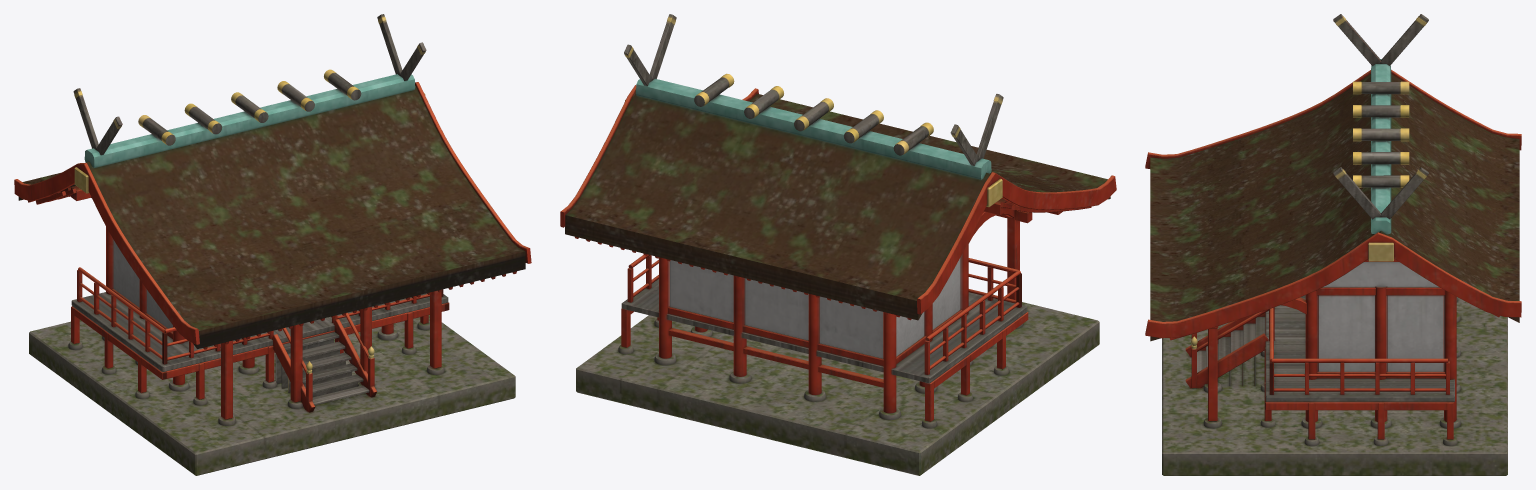
The model's file is shrine-honden.glb.
3 views of the same model, side by side, from view 1: azimuth 30°, elevation 25°; view 2: azimuth 150°, elevation 25°; view 3: azimuth 270°, elevation 25° (orthographic). The views are drawn at different scales.
Parts seen in each view (by area): view 1: lod0; view 2: lod0; view 3: lod0.
Boxes of the visible parts, <box> form: lod0: <box>14,14,531,475</box>; lod0: <box>560,14,1116,475</box>; lod0: <box>1145,14,1521,475</box>.
Size of what is drawn, in the model's own units: 8.78 by 7.28 by 8.16.
1 material, 1 textured.
